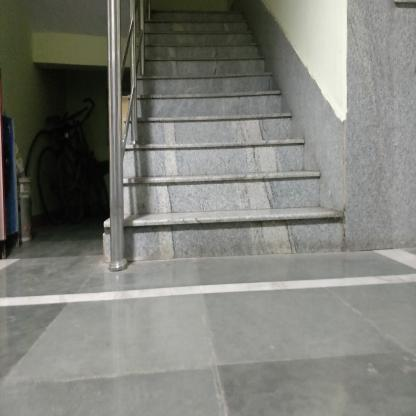stairs: (140, 73, 276, 275)
